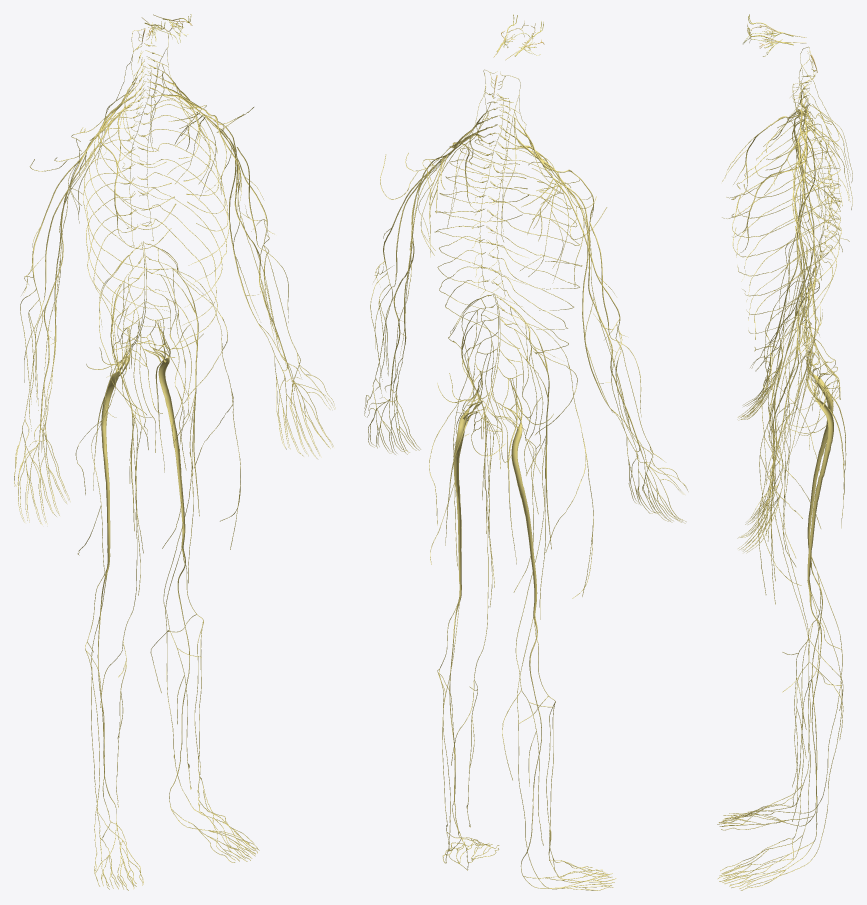
Rendered from body-nerves.lod1.glb.
3 renders of one model, left to right at view 1: azimuth 30°, elevation 25°; view 2: azimuth 150°, elevation 25°; view 3: azimuth 270°, elevation 25°, orthographic. The views are drawn at different scales.
Visible parts, largest first — view 1: intercostal-nerves-r, intercostal-nerves-l, sciatic-nerve-l, sciatic-nerve-r; view 2: intercostal-nerves-l, intercostal-nerves-r, sciatic-nerve-r, sciatic-nerve-l, saphenous-nerve-l, saphenous-nerve-r; view 3: intercostal-nerves-l, intercostal-nerves-r, sciatic-nerve-l, sciatic-nerve-r, saphenous-nerve-l, saphenous-nerve-r, lateral-femoral-cutaneous-nerve-l, median-nerve-l, femoral-nerve-l, lateral-femoral-cutaneous-nerve-r, ulnar-nerve-l, tibial-nerve-l (+7 smaller).
Part boxes in pixels (x1,y1,x2,y2): intercostal-nerves-r: (83, 101, 176, 346); intercostal-nerves-l: (143, 95, 229, 342); sciatic-nerve-l: (143, 320, 185, 545); sciatic-nerve-r: (101, 328, 130, 564); intercostal-nerves-l: (434, 139, 528, 348); intercostal-nerves-r: (492, 148, 582, 354); sciatic-nerve-r: (496, 378, 537, 613); sciatic-nerve-l: (453, 372, 481, 594); saphenous-nerve-l: (451, 413, 490, 827); saphenous-nerve-r: (502, 439, 545, 845); intercostal-nerves-l: (732, 128, 841, 351); intercostal-nerves-r: (731, 115, 841, 339); sciatic-nerve-l: (806, 353, 833, 588); sciatic-nerve-r: (806, 348, 833, 553); saphenous-nerve-l: (771, 425, 843, 821); saphenous-nerve-r: (772, 403, 843, 787); lateral-femoral-cutaneous-nerve-l: (758, 304, 820, 594); median-nerve-l: (771, 172, 805, 475); femoral-nerve-l: (767, 286, 810, 541); lateral-femoral-cutaneous-nerve-r: (759, 280, 820, 535); ulnar-nerve-l: (779, 165, 816, 445); tibial-nerve-l: (809, 588, 821, 840).
Bounding box in the file's own units: 0.6475 × 1.63 × 0.2419.
